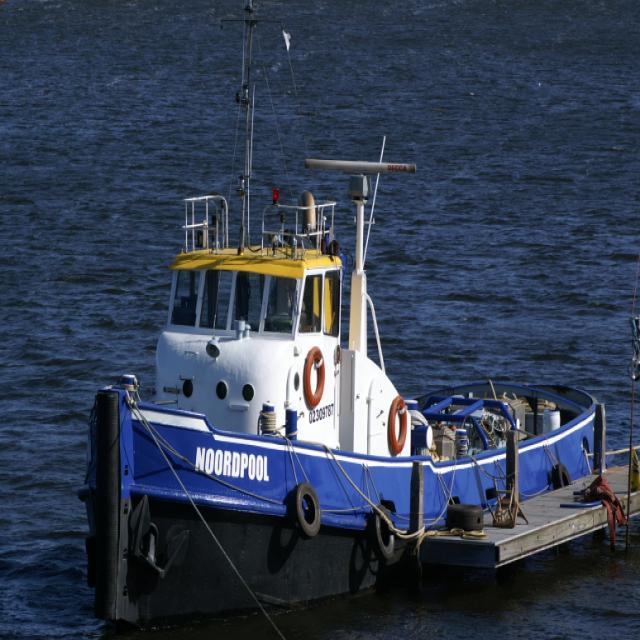tugboat: (75, 152, 610, 640)
